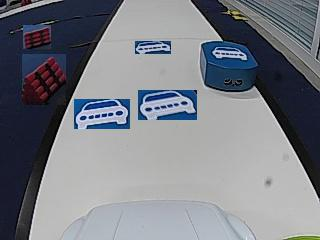safety: (212, 47, 247, 60)
